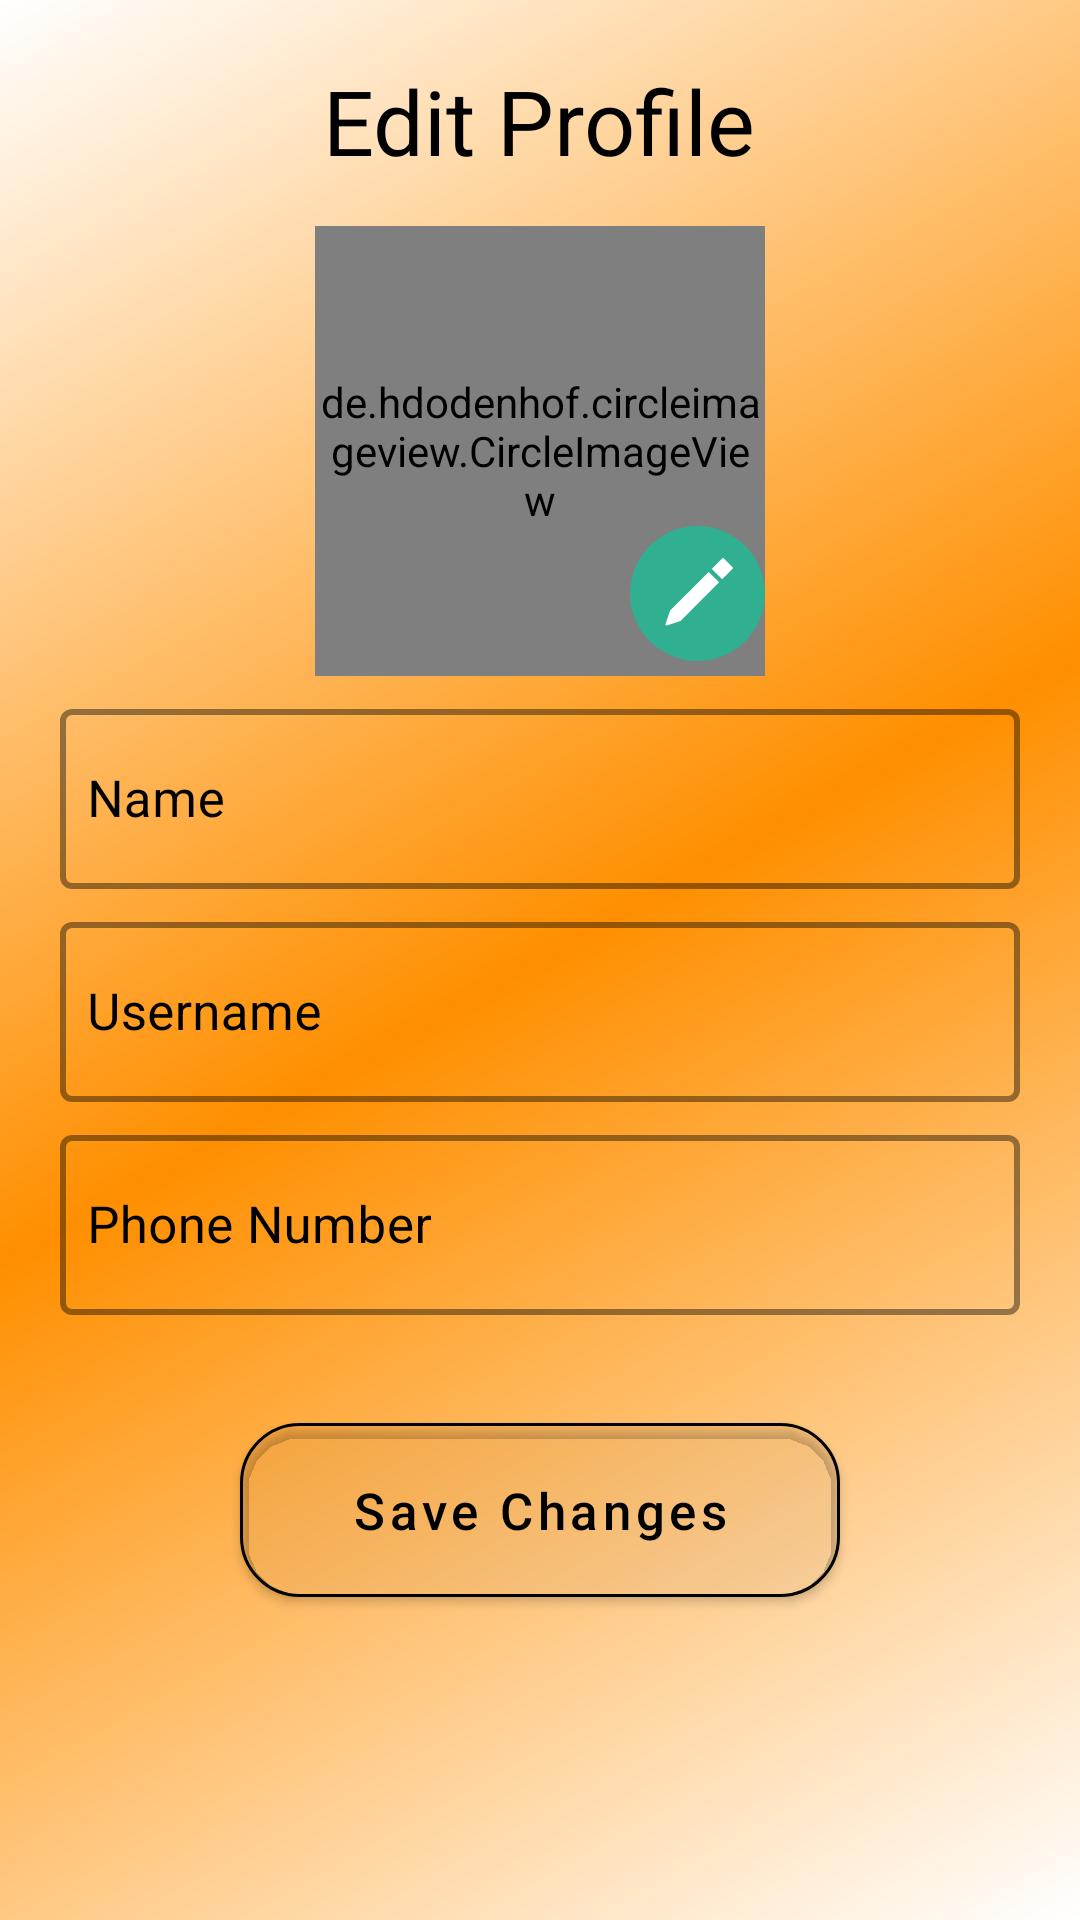

Screen size 1080w x 1920h. Icon name, then its box in pixels as (x1, y1, x2, y2):
edit: (630, 526, 765, 661)
